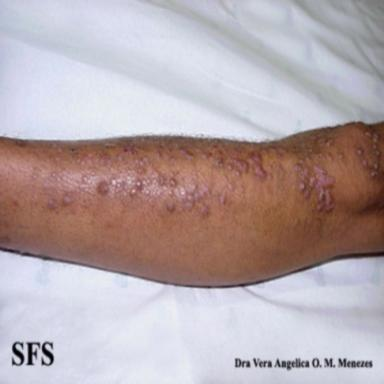Epidermolysis-Bullosa-Pruriginosa: (314, 165, 334, 211), (169, 185, 210, 207), (248, 151, 266, 178), (226, 158, 248, 172), (297, 165, 309, 180), (97, 180, 109, 195), (180, 148, 193, 160), (135, 157, 149, 166), (123, 148, 136, 155), (308, 177, 316, 188), (201, 205, 209, 216), (167, 201, 175, 211), (157, 175, 164, 186), (49, 200, 57, 209), (214, 159, 223, 167), (136, 180, 143, 190), (81, 173, 88, 183), (63, 196, 71, 204), (219, 195, 226, 203), (169, 179, 176, 186), (299, 182, 305, 190), (337, 152, 343, 160), (77, 159, 85, 165), (373, 133, 378, 142), (217, 149, 223, 156), (305, 190, 310, 198), (362, 159, 367, 167), (327, 152, 332, 160), (143, 179, 151, 184), (228, 183, 233, 190), (51, 171, 56, 178), (365, 131, 371, 136), (131, 189, 136, 195), (169, 157, 175, 162), (111, 179, 116, 185), (235, 171, 240, 176), (202, 154, 207, 159), (357, 149, 361, 155), (33, 173, 37, 179), (373, 144, 377, 149), (212, 144, 217, 148), (145, 190, 149, 194), (58, 148, 62, 152), (376, 150, 379, 155), (374, 164, 377, 169), (371, 172, 374, 177), (209, 151, 212, 156)
